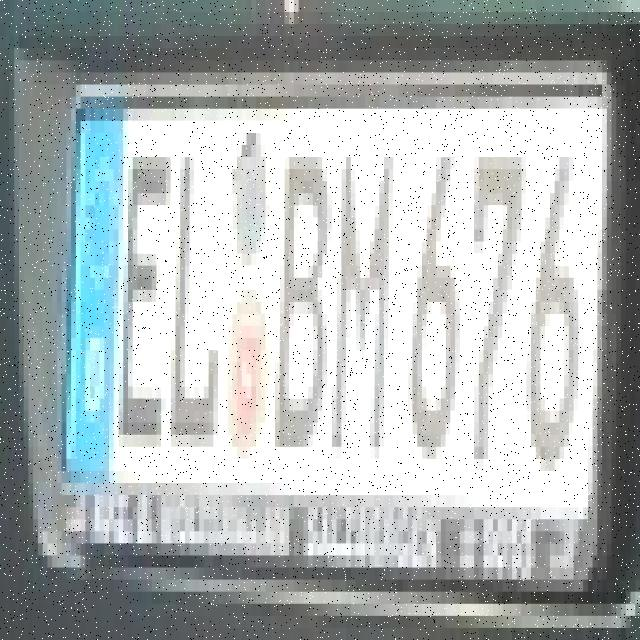licenseplate: (52, 29, 610, 606)
